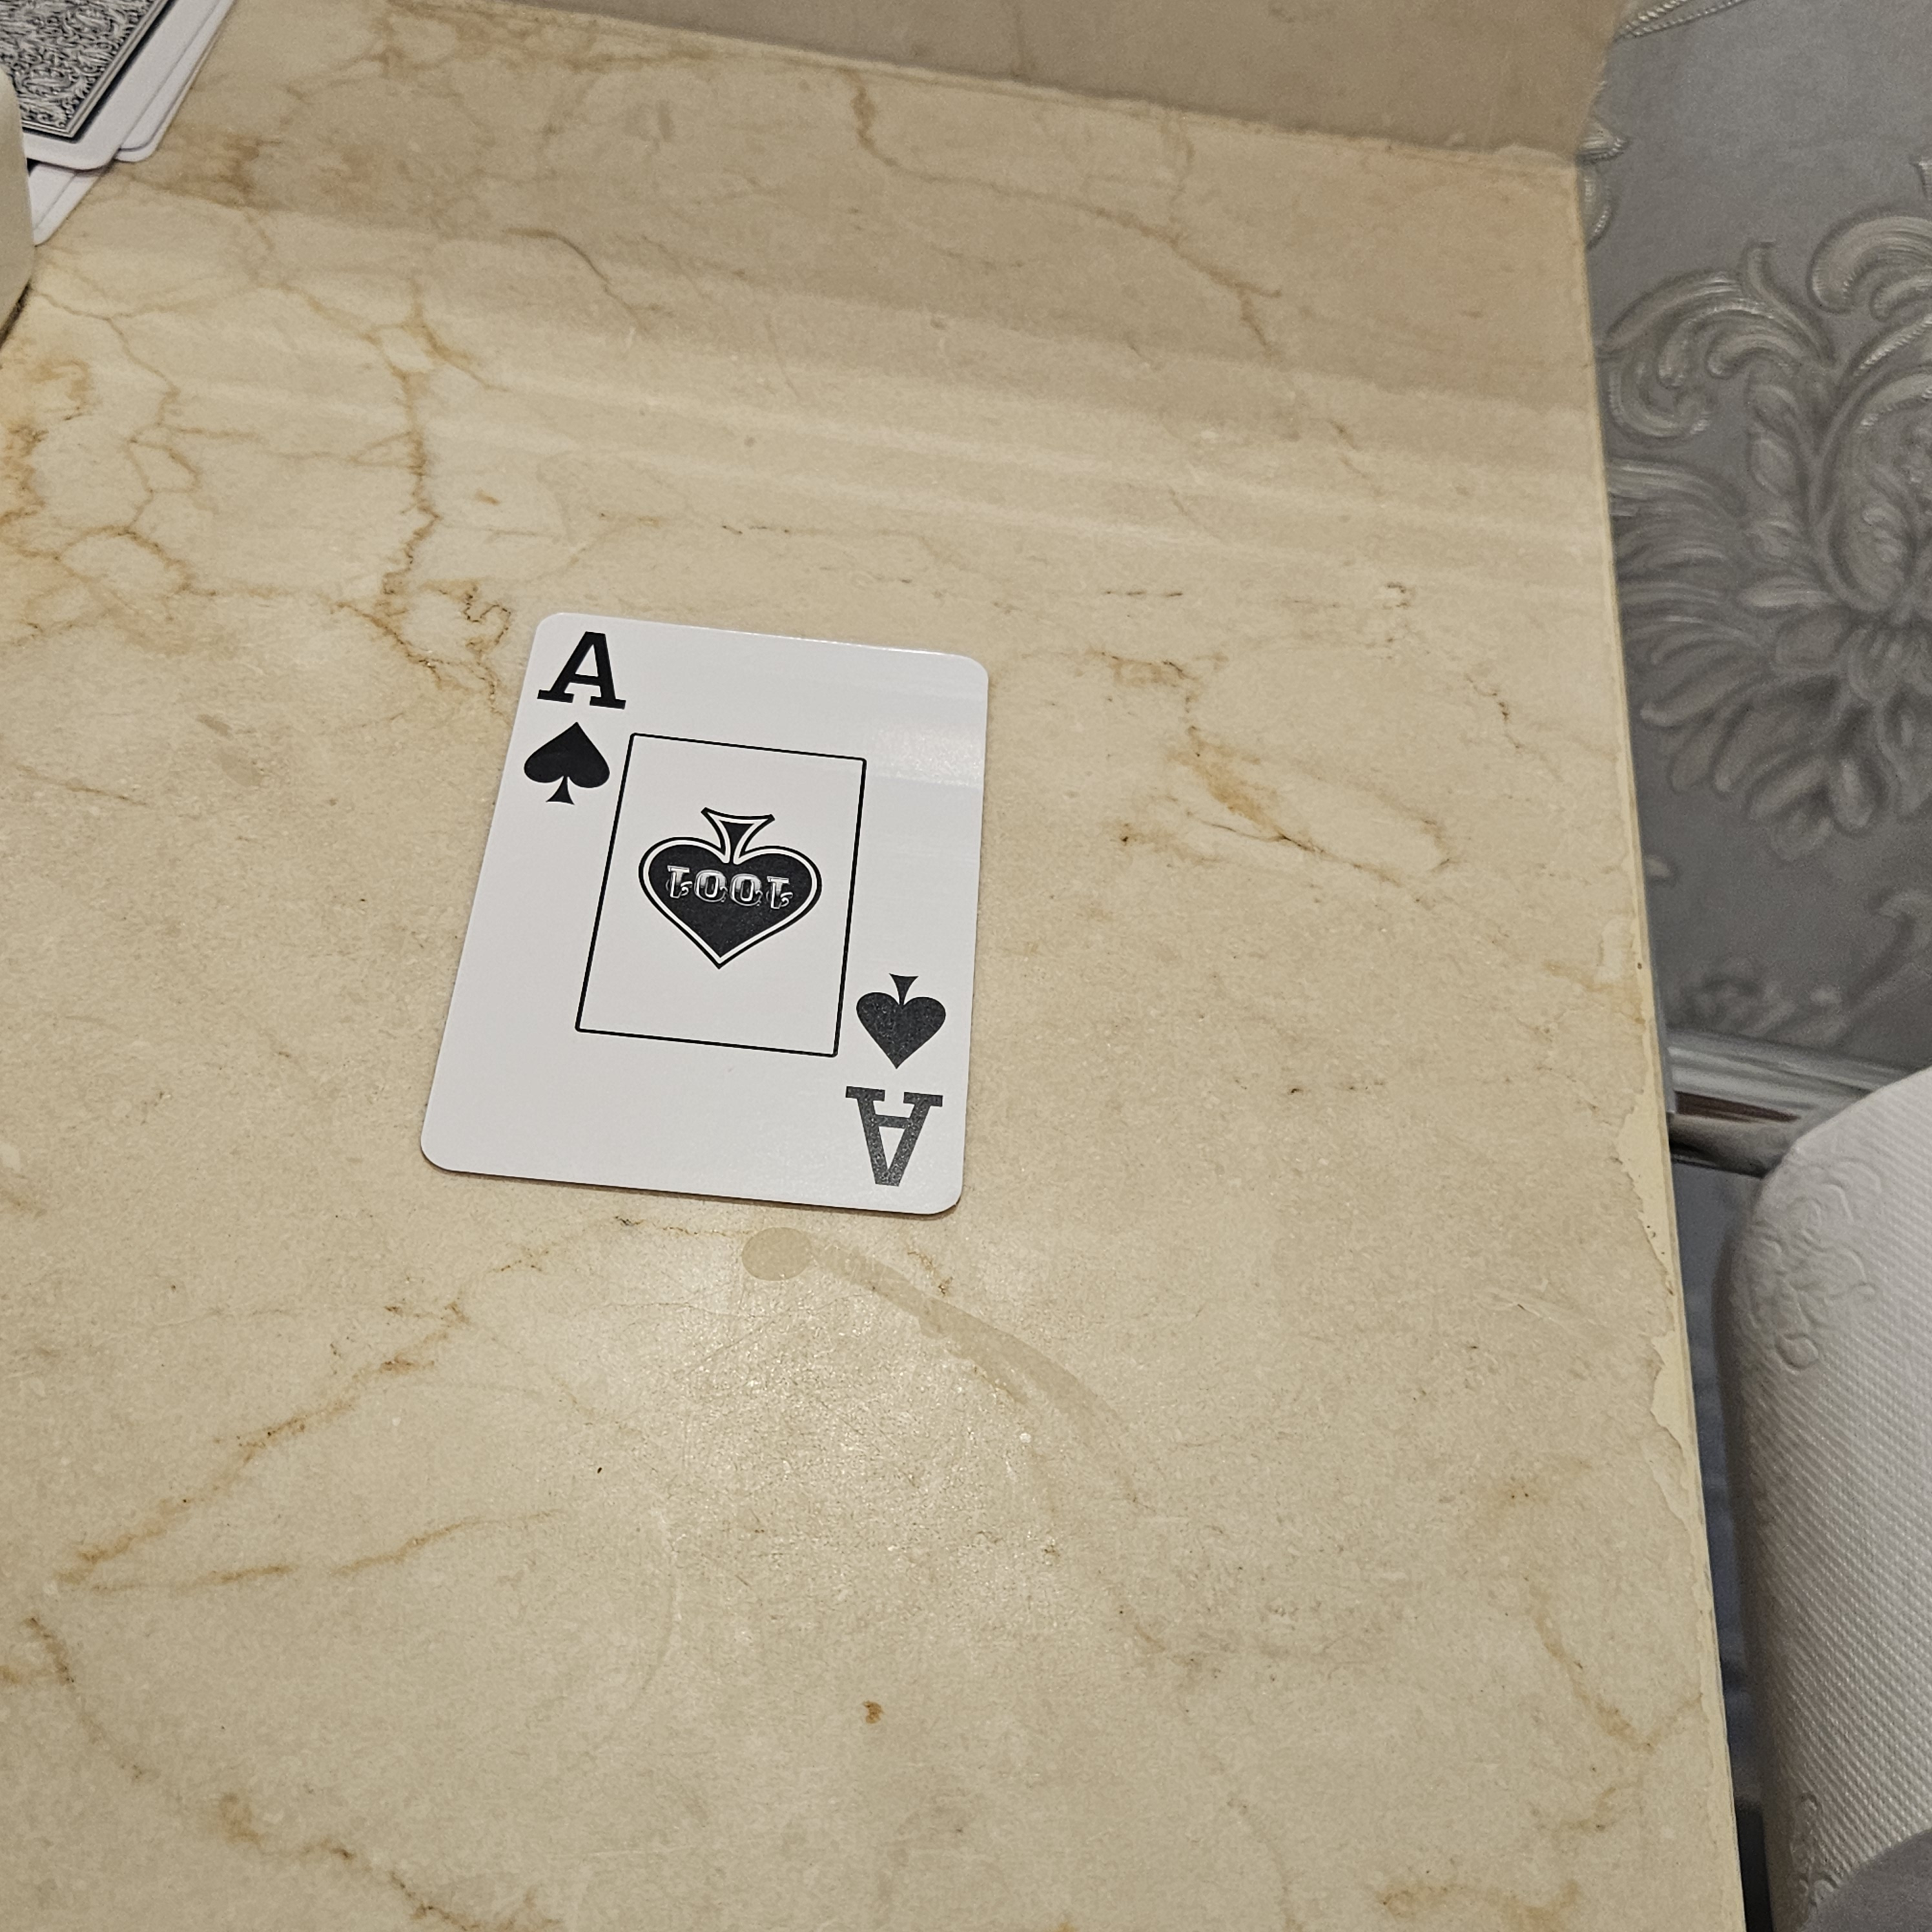AE: (826, 961, 964, 1207), (511, 621, 642, 816)
